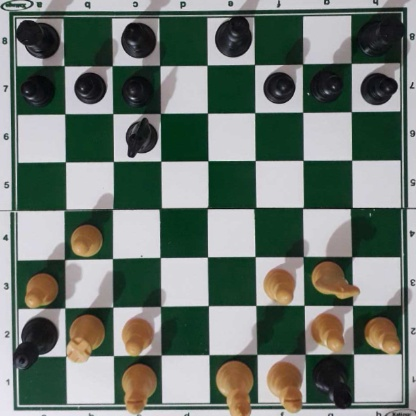black-bishop: (312, 358, 352, 408), (117, 21, 158, 58)
black-king: (212, 14, 253, 57)
black-knight: (122, 117, 160, 158)
black-pawn: (360, 69, 396, 105), (310, 68, 344, 101), (262, 69, 295, 103), (20, 73, 54, 105), (73, 70, 104, 104), (122, 71, 152, 105)
black-queen: (12, 317, 58, 371)
black-rook: (12, 16, 60, 58), (358, 9, 401, 54)
white-bishop: (121, 362, 159, 414), (265, 361, 302, 411)
white-king: (215, 360, 253, 414)
white-knight: (310, 258, 361, 299)
white-pawn: (308, 310, 346, 351), (119, 315, 154, 355), (67, 220, 105, 256), (363, 315, 400, 351), (22, 271, 58, 308), (262, 266, 295, 304)
white-rook: (67, 313, 105, 361)
